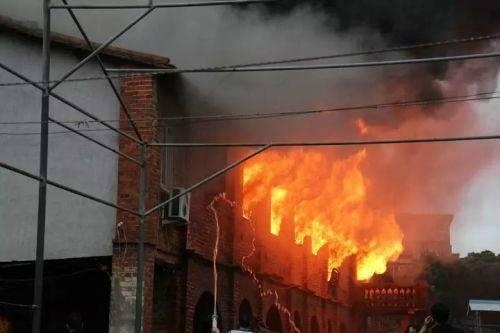fire: (240, 132, 405, 282)
